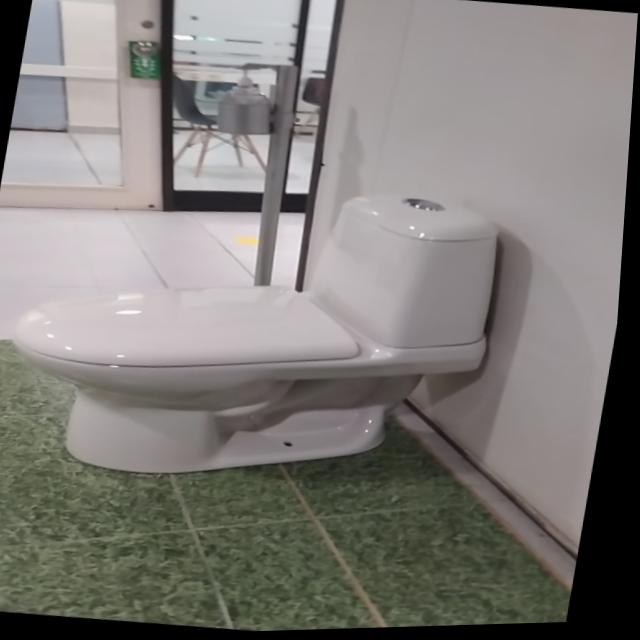toilet: (0, 156, 517, 512)
